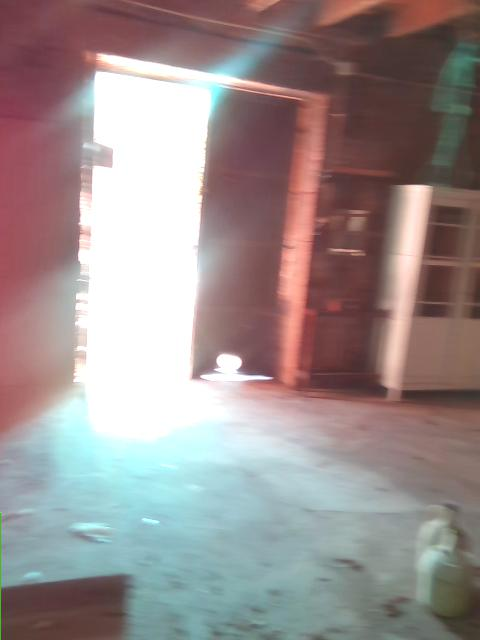open_door: (72, 53, 223, 391)
